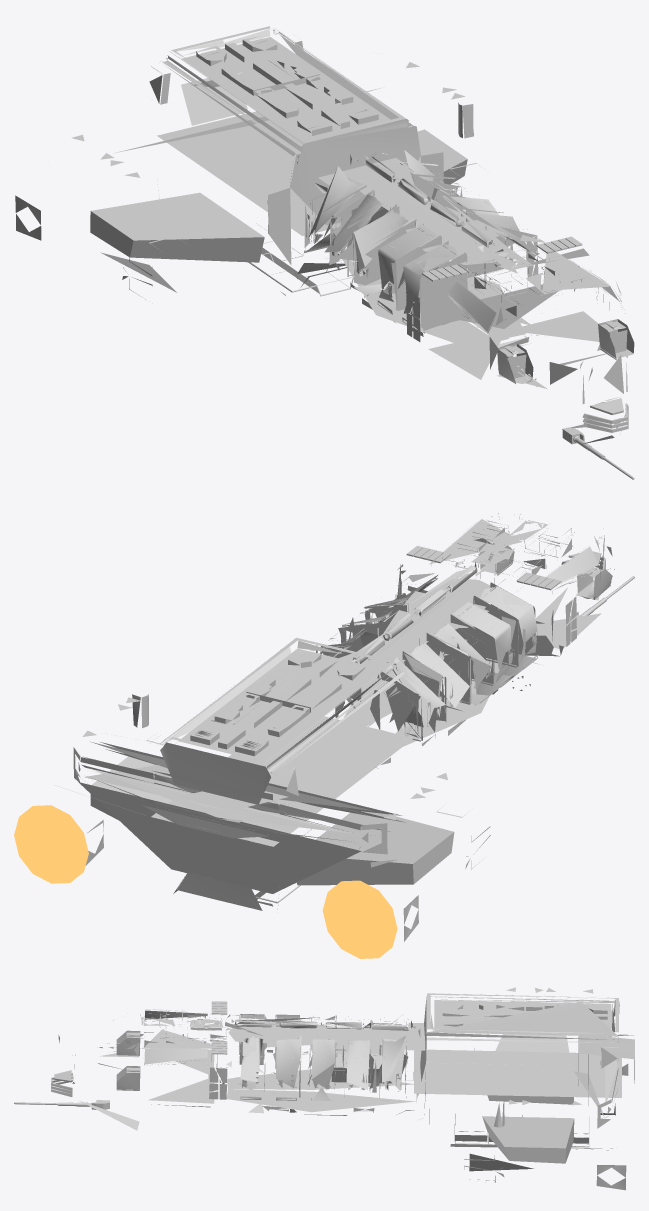
Rendered from cargo_game_far.glb.
3 views of the same model, one above another, from view 1: azimuth 30°, elevation 25°; view 2: azimuth 150°, elevation 25°; view 3: azimuth 270°, elevation 25° (orthographic). The views are drawn at different scales.
Parts seen in each view (by area): view 1: cargo_game_far; view 2: cargo_game_far; view 3: cargo_game_far.
Part boxes in pixels (box(x1,y1,x2,y2)): cargo_game_far: box(15, 26, 634, 479); cargo_game_far: box(14, 513, 634, 958); cargo_game_far: box(14, 987, 634, 1190).
Size of the model in its own units: 30.67 by 15.32 by 57.67.
